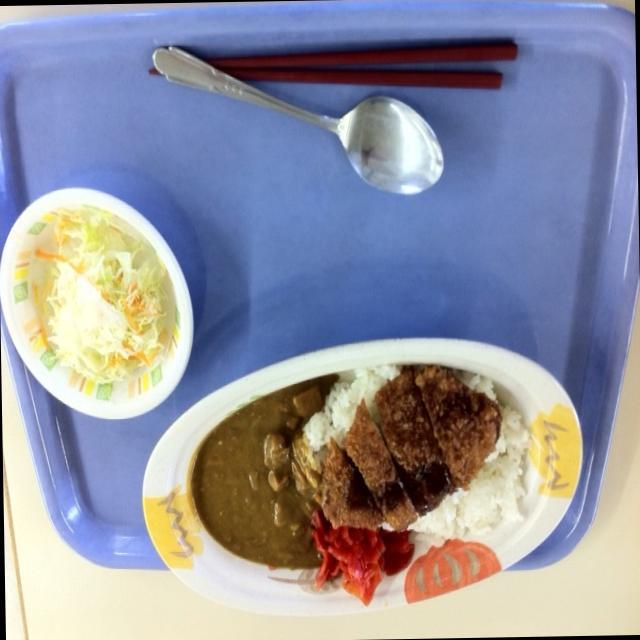Green Salad: (16, 208, 169, 402)
